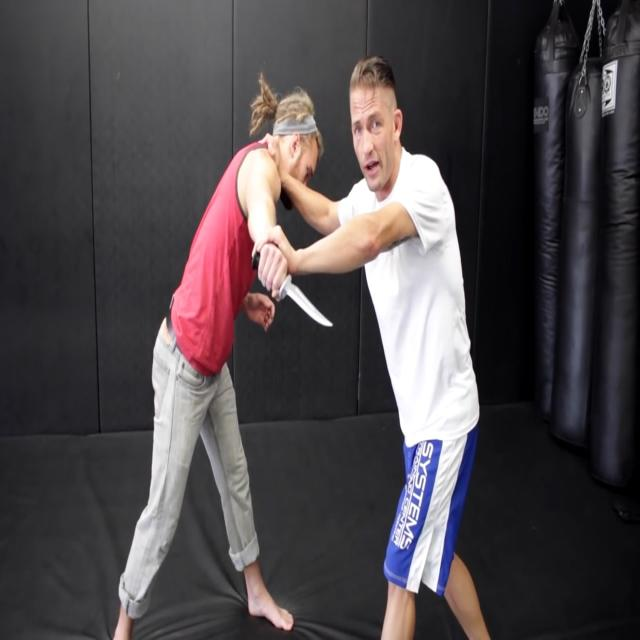knife: (252, 250, 337, 332)
